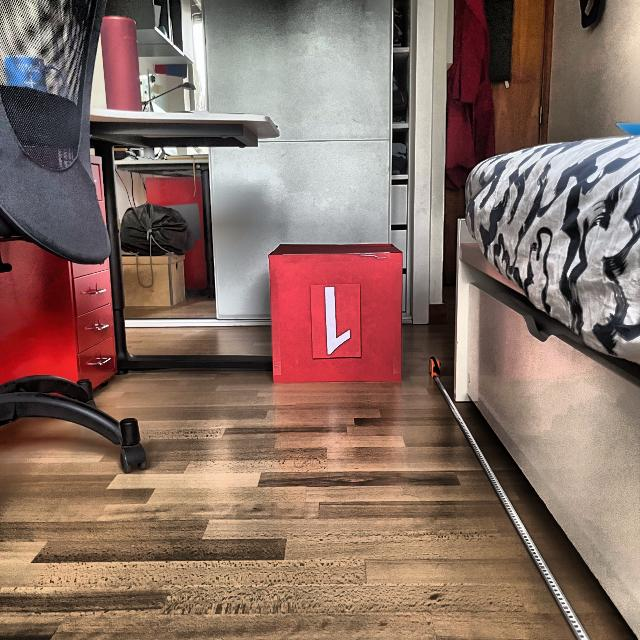one: (321, 284, 353, 356)
red box: (271, 247, 401, 381)
